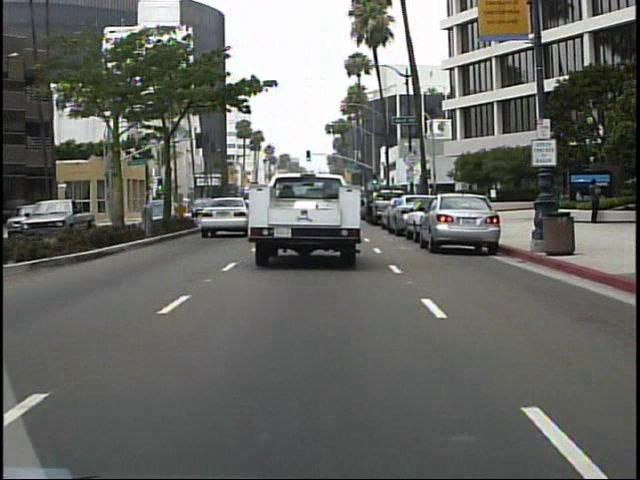person: (586, 178, 607, 230)
